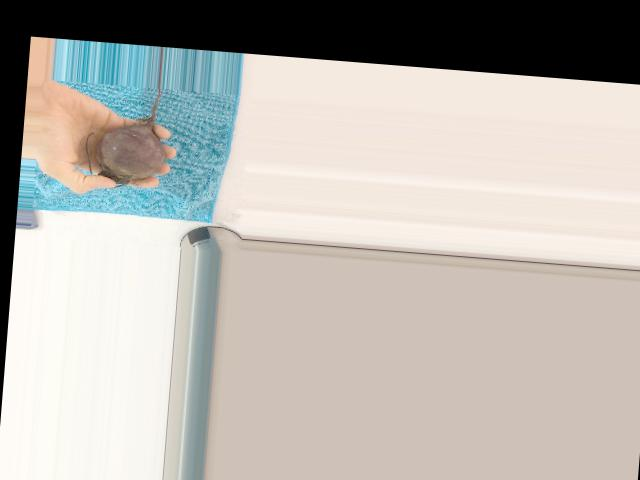beet: (83, 81, 171, 191)
